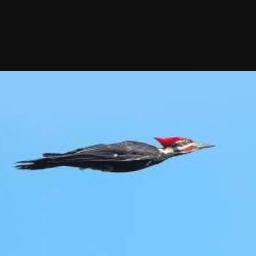Woodpecker: (13, 135, 214, 173)
